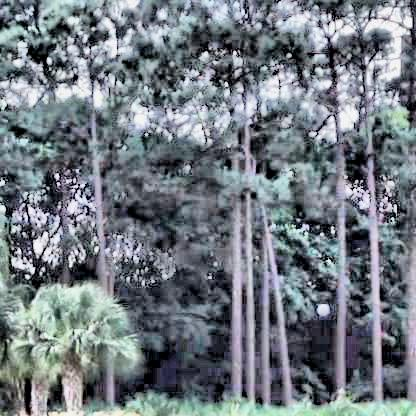golfball: (315, 300, 327, 313)
